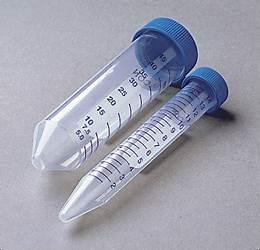Test tube: (29, 26, 230, 235)
